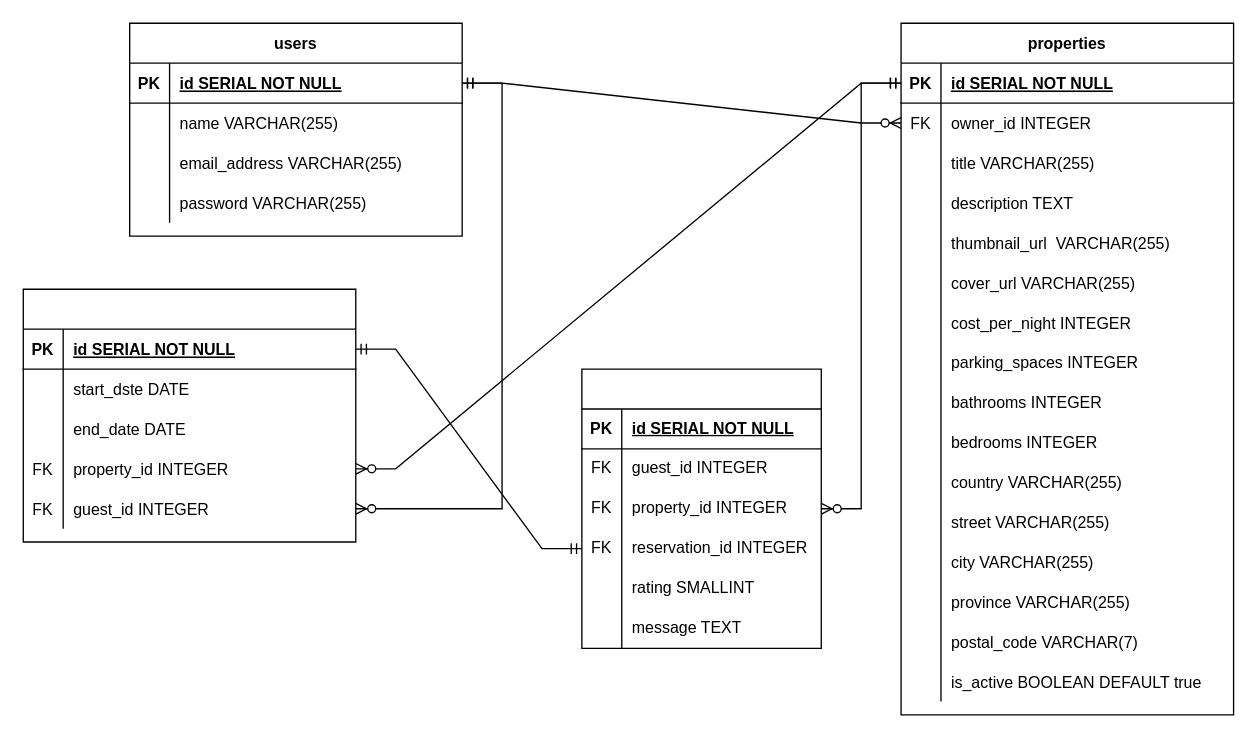
This 1257x738 diagram has some shape labels left out. The shapes that lost their labels are listed below. From the top down, each one's box as (x1, y1, x2, y2) in pixels, then its label:
(22, 288, 356, 542): reservations
(581, 368, 821, 648): property_reviews
